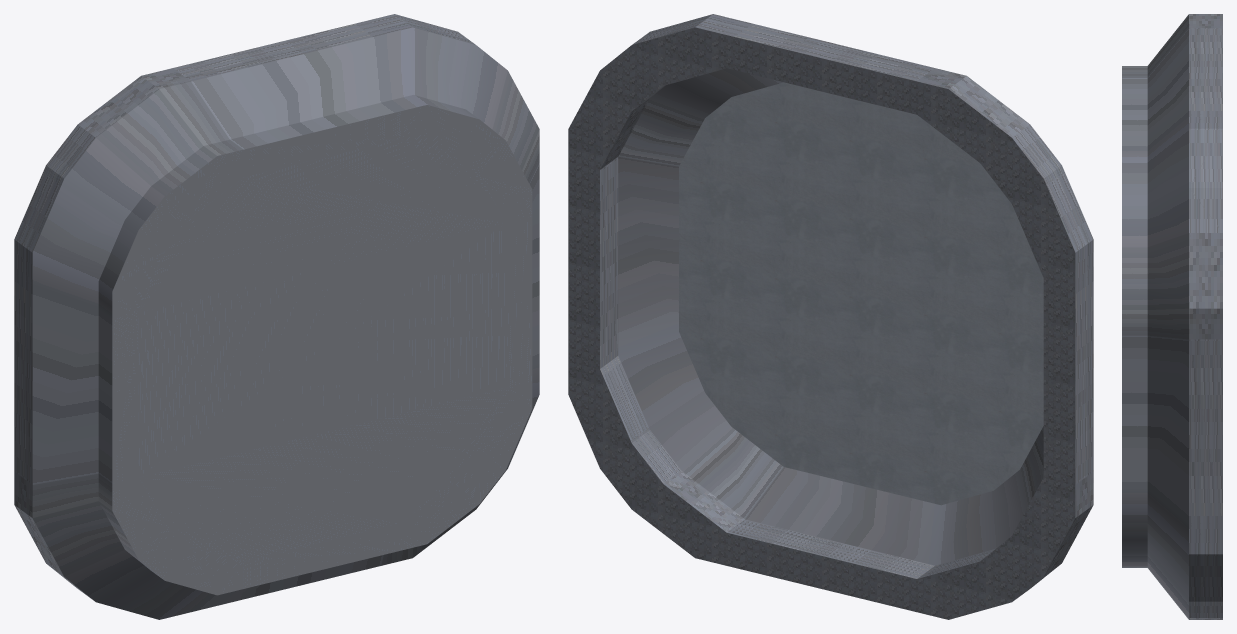
Rendered from door.dae.
The picture shows the model from 3 angles, left to right: view 1: azimuth 30°, elevation 25°; view 2: azimuth 150°, elevation 25°; view 3: azimuth 270°, elevation 25°; orthographic projection. The views are drawn at different scales.
Visible parts, largest first — view 1: entity0_brush1; view 2: entity0_brush1; view 3: entity0_brush1.
Part boxes in pixels (x1,y1,x2,y2): entity0_brush1: [14, 14, 539, 619]; entity0_brush1: [568, 14, 1093, 619]; entity0_brush1: [1122, 14, 1222, 619].
Bounding box in the file's own units: 11.54 × 2.15 × 11.54.
Materials: 2 (2 with a texture image).
